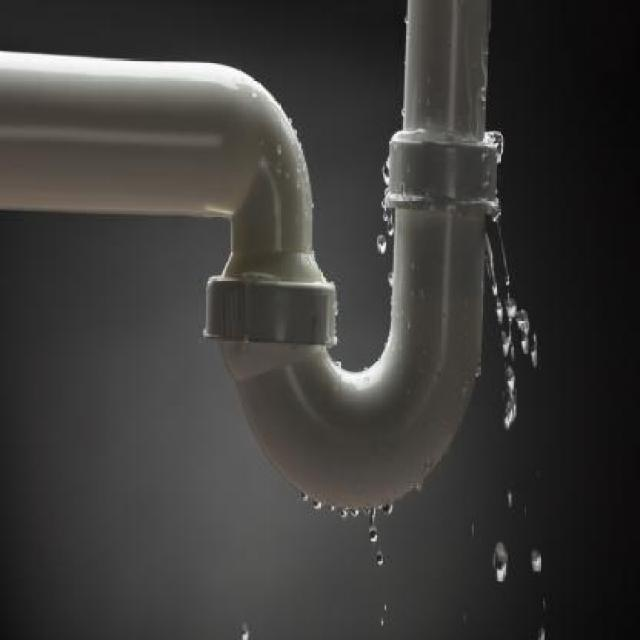water drop: (499, 368, 519, 429), (493, 542, 509, 584), (364, 504, 378, 543), (530, 548, 548, 574), (530, 334, 542, 368), (382, 206, 394, 233), (498, 332, 512, 354), (517, 312, 531, 334), (380, 501, 396, 517), (294, 489, 310, 504), (506, 297, 516, 320), (374, 550, 386, 568), (377, 236, 387, 253), (520, 334, 528, 355), (497, 302, 504, 324), (310, 498, 322, 510), (338, 505, 348, 519), (350, 505, 360, 519)
